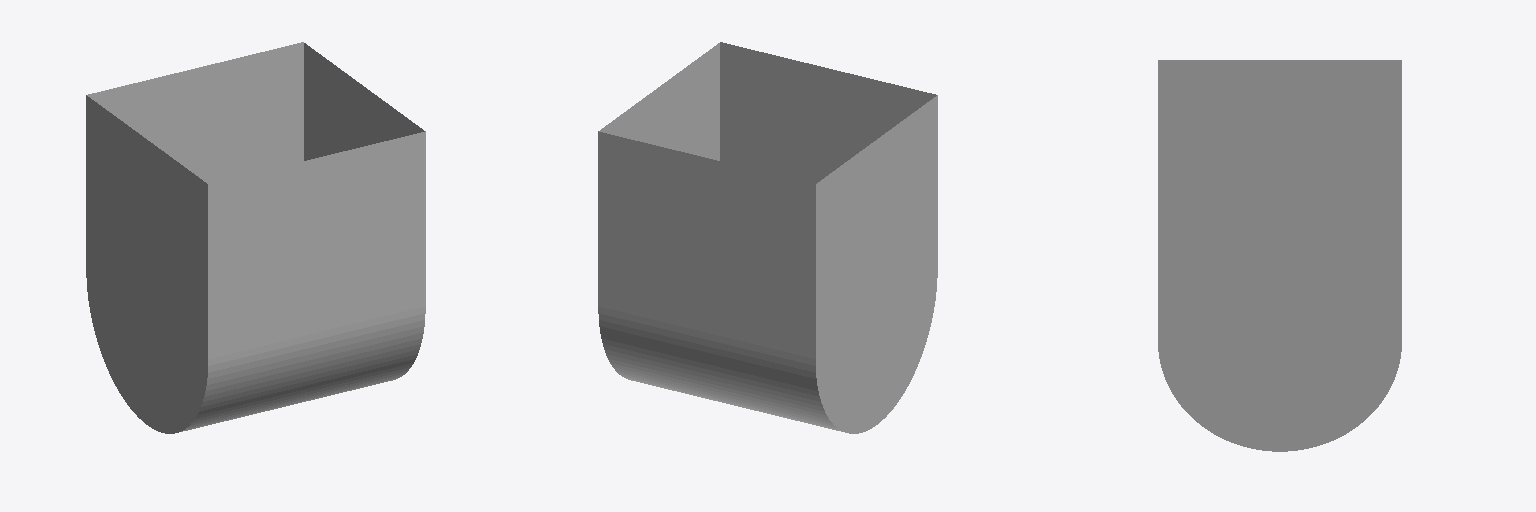
Rendered from u_tank.obj.
The picture shows the model from 3 angles: view 1: azimuth 30°, elevation 25°; view 2: azimuth 150°, elevation 25°; view 3: azimuth 270°, elevation 25°; orthographic projection.
Size of the model in its own units: 1.95 by 2.45 by 1.9.